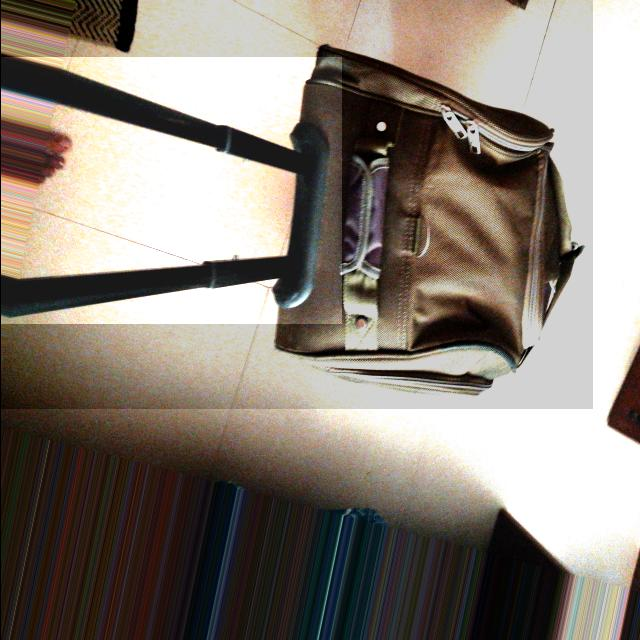Bag: (4, 35, 592, 418)
Handle: (2, 58, 333, 326)
